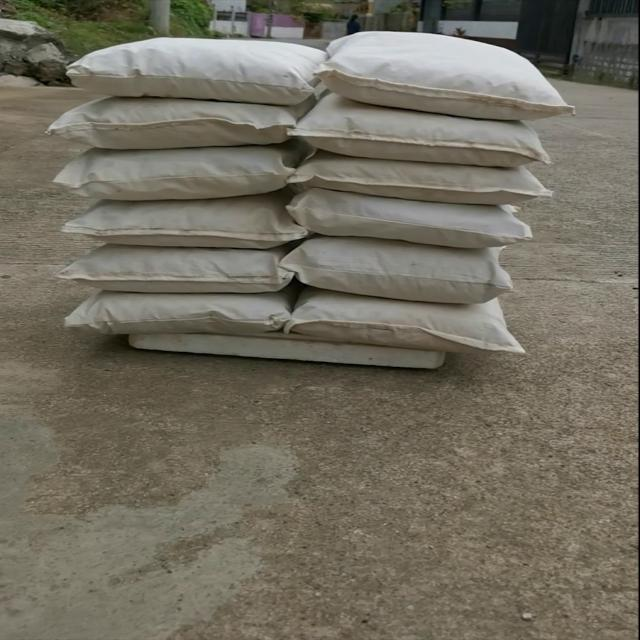Sack: (320, 22, 586, 140), (299, 95, 567, 181), (294, 176, 542, 262), (283, 150, 569, 222), (66, 36, 326, 115), (281, 233, 529, 312), (56, 131, 300, 210), (285, 291, 538, 367), (44, 85, 294, 157), (52, 187, 303, 256), (57, 280, 290, 348), (50, 241, 301, 301)
